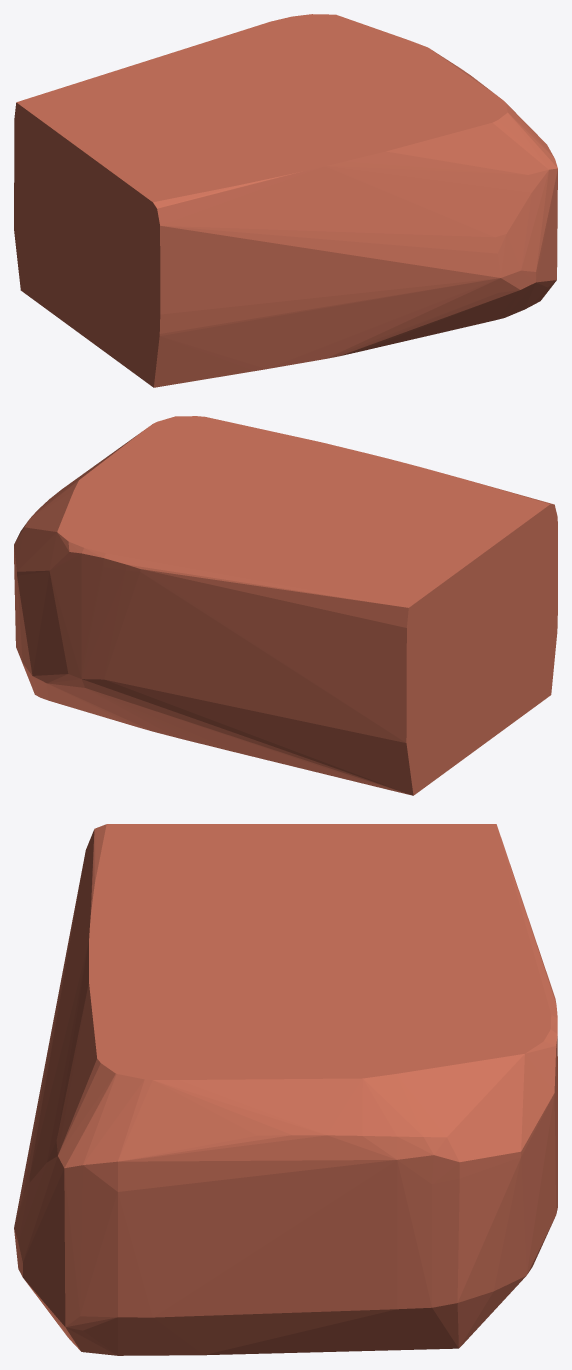
The picture shows the model from 3 angles, top to bottom: view 1: azimuth 30°, elevation 25°; view 2: azimuth 150°, elevation 25°; view 3: azimuth 270°, elevation 25°; orthographic projection. The views are drawn at different scales.
Size of the model in its own units: 0.0566 by 0.025 by 0.0467.
